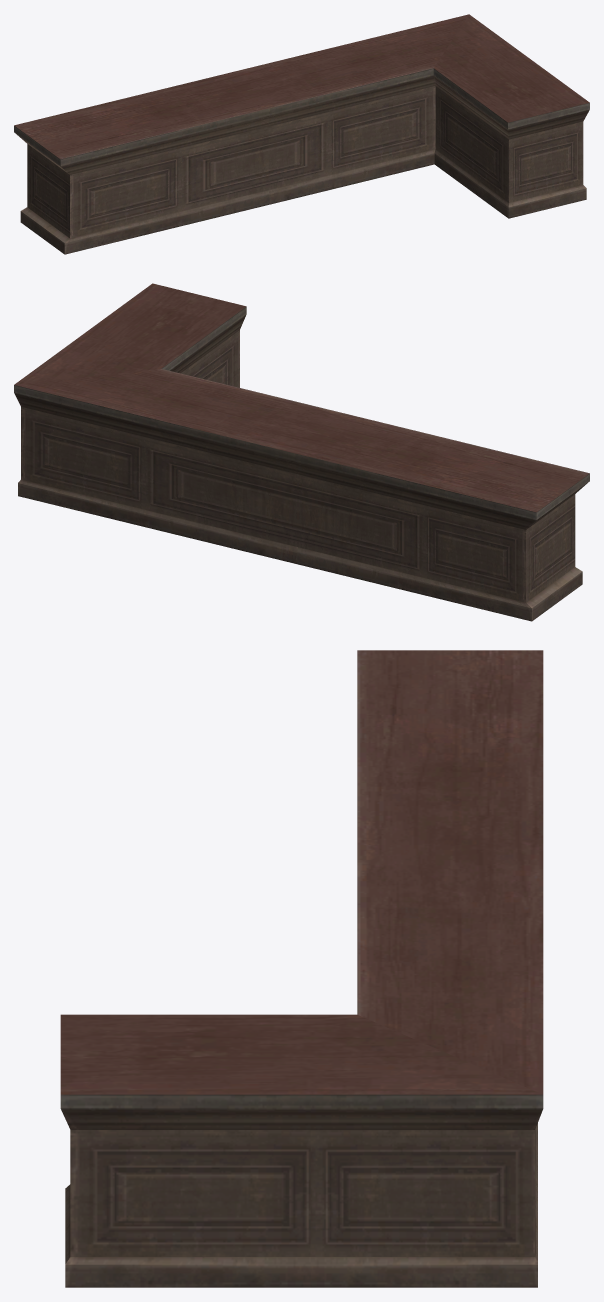
File: bg_lut_lucastle_table04_sm_artree.FBX
The picture shows the model from 3 angles, top to bottom: view 1: azimuth 30°, elevation 25°; view 2: azimuth 150°, elevation 25°; view 3: azimuth 270°, elevation 25°; orthographic projection. The views are drawn at different scales.
Visible parts, largest first — view 1: bg_lut_lucastle_table04_sm_artree; view 2: bg_lut_lucastle_table04_sm_artree; view 3: bg_lut_lucastle_table04_sm_artree.
Boxes of the visible parts, x1,y1,x2,y2 form: bg_lut_lucastle_table04_sm_artree: [14, 14, 589, 254]; bg_lut_lucastle_table04_sm_artree: [14, 283, 589, 621]; bg_lut_lucastle_table04_sm_artree: [60, 650, 543, 1287].
Size of the model in its own units: 295 by 60.34 by 136.
